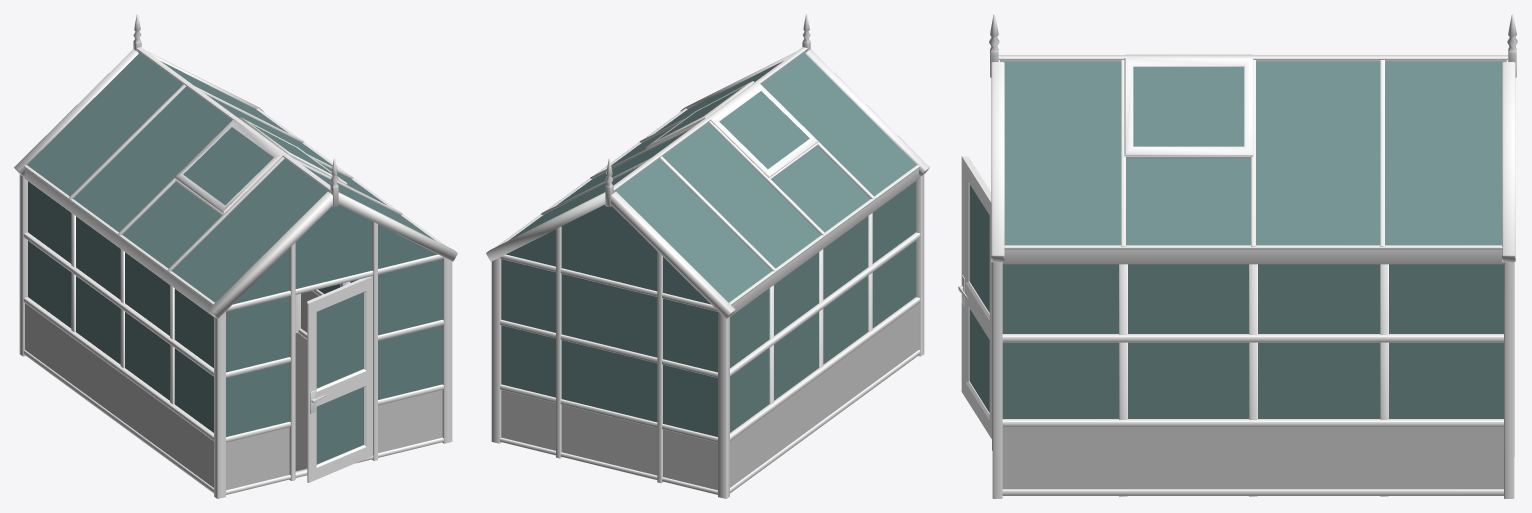
The model's file is greenhouse_Mesh.FBX.
3 renders of one model, left to right at view 1: azimuth 30°, elevation 25°; view 2: azimuth 150°, elevation 25°; view 3: azimuth 270°, elevation 25°, orthographic. The views are drawn at different scales.
Parts seen in each view (by area): view 1: Greenhouse_Structure, Greenhouse_Door, Greenhouse_Window_Left, Greenhouse_Window_Right; view 2: Greenhouse_Structure, Greenhouse_Window_Left, Greenhouse_Window_Right; view 3: Greenhouse_Structure, Greenhouse_Window_Right, Greenhouse_Door.
Part boxes in pixels (x1,y1,x2,y2): Greenhouse_Structure: (14,14,457,498); Greenhouse_Door: (307,276,372,482); Greenhouse_Window_Left: (174,119,282,213); Greenhouse_Window_Right: (239,117,347,184); Greenhouse_Structure: (486,14,929,498); Greenhouse_Window_Left: (710,83,818,177); Greenhouse_Window_Right: (645,81,753,148); Greenhouse_Structure: (989,14,1517,498); Greenhouse_Window_Right: (1124,58,1253,156); Greenhouse_Door: (958,156,991,438).
Size of the model in its own units: 219 by 267 by 330.
